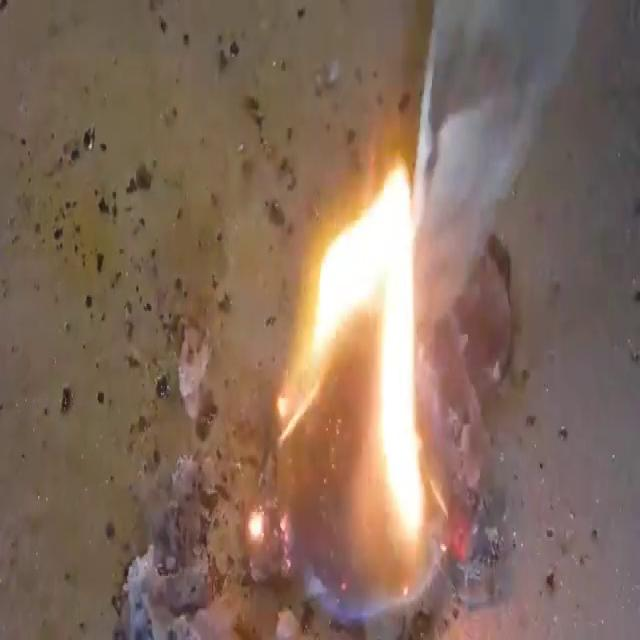Fire: (262, 154, 453, 620)
